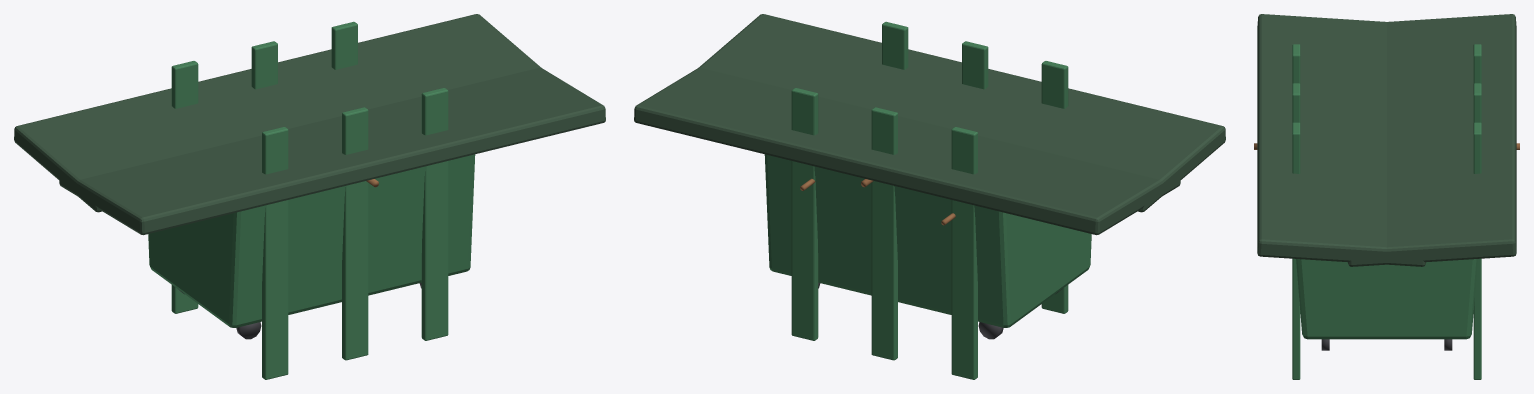
File: bl_dumpster.gltf
3 views of the same model, side by side, from view 1: azimuth 30°, elevation 25°; view 2: azimuth 150°, elevation 25°; view 3: azimuth 270°, elevation 25° (orthographic).
Parts seen in each view (by area): view 1: lid.001, lid, body, rib.004, rib.002, rib, rib.001, rib.003, rib.005; view 2: lid, lid.001, body, rib.005, rib.003, rib.001, rib, rib.002, rib.004; view 3: lid, lid.001, body, rib.004, rib.005, rib, rib.001, rib.002, rib.003.
Boxes of the visible parts, <box> form: lid.001: <box>14,14,541,212</box>; lid: <box>59,67,605,235</box>; body: <box>148,154,475,327</box>; rib.004: <box>421,88,448,340</box>; rib.002: <box>342,107,368,360</box>; rib: <box>262,127,288,379</box>; rib.001: <box>171,61,198,313</box>; rib.003: <box>251,41,277,89</box>; rib.005: <box>331,21,357,69</box>; lid: <box>698,14,1225,212</box>; lid.001: <box>634,67,1180,235</box>; body: <box>764,154,1091,327</box>; rib.005: <box>791,88,818,340</box>; rib.003: <box>871,107,897,360</box>; rib.001: <box>951,127,977,379</box>; rib: <box>1041,61,1068,313</box>; rib.002: <box>962,41,988,89</box>; rib.004: <box>882,21,908,69</box>; lid: <box>1257,14,1425,266</box>; lid.001: <box>1348,14,1516,266</box>; body: <box>1296,259,1477,339</box>; rib.004: <box>1292,122,1300,379</box>; rib.005: <box>1473,122,1481,379</box>; rib: <box>1292,44,1300,83</box>; rib.001: <box>1473,44,1481,83</box>; rib.002: <box>1292,83,1300,122</box>; rib.003: <box>1473,83,1481,122</box>.
Size of the model in its own units: 3.96 by 2 by 1.95.
